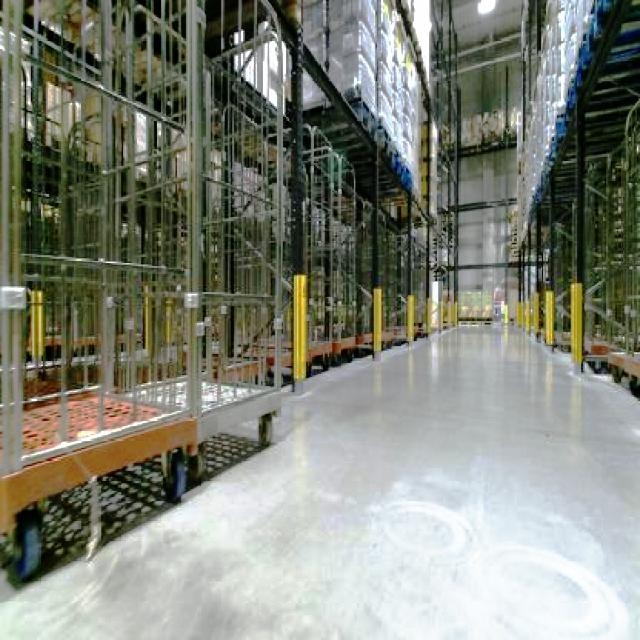ground: (0, 317, 638, 638)
pallet: (509, 0, 638, 637), (0, 385, 200, 583)
